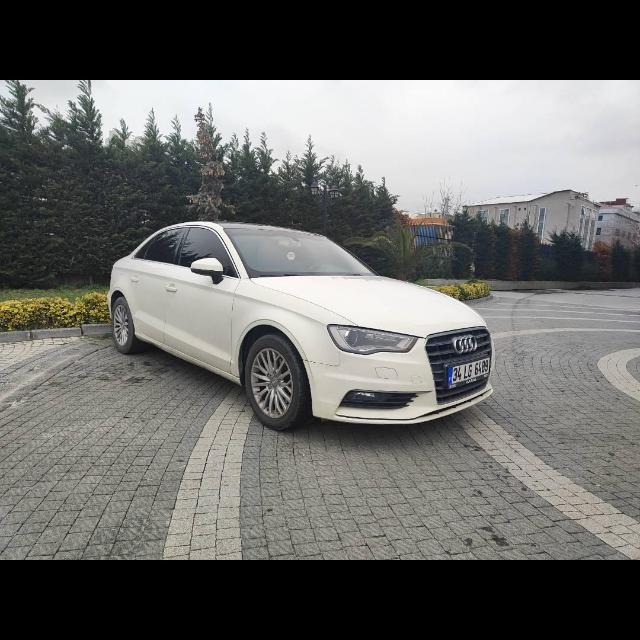Plaka: (448, 357, 488, 385)
